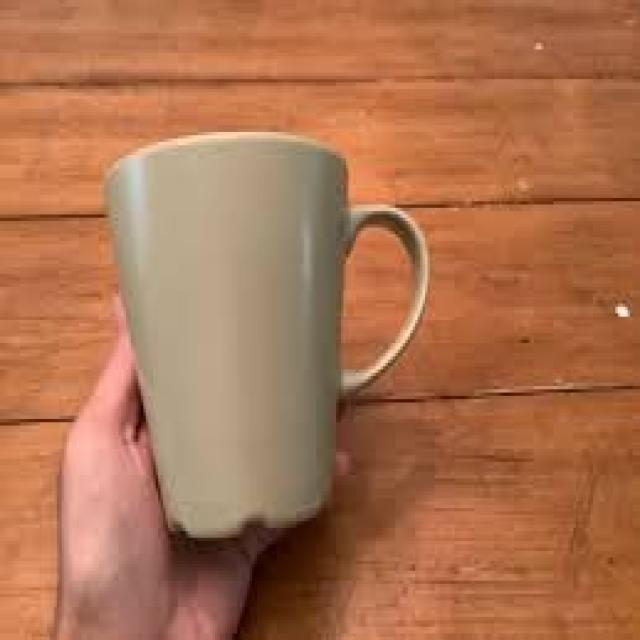taza: (104, 130, 429, 540)
